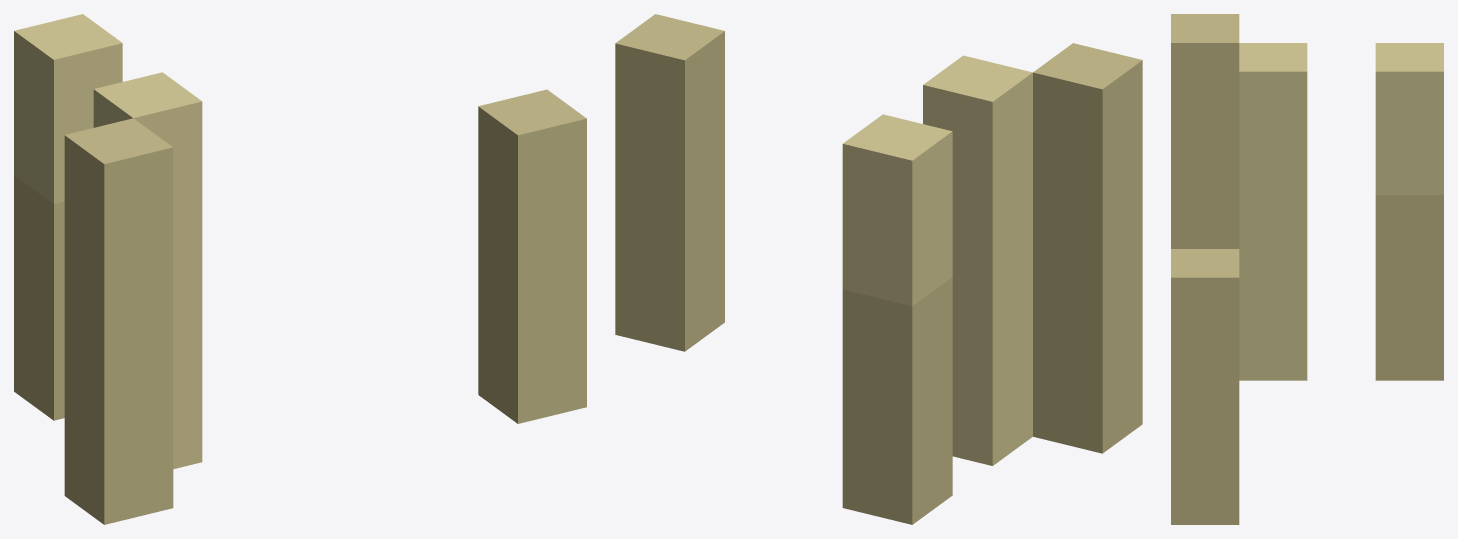
The model's file is trigo_silvestre_03.glb.
The picture shows the model from 3 angles, left to right: view 1: azimuth 30°, elevation 25°; view 2: azimuth 150°, elevation 25°; view 3: azimuth 270°, elevation 25°; orthographic projection. The views are drawn at different scales.
Parts seen in each view (by area): view 1: trigo_silvestre_03; view 2: trigo_silvestre_03; view 3: trigo_silvestre_03.
Boxes of the visible parts, x1,y1,x2,y2 form: trigo_silvestre_03: (14, 14, 586, 524); trigo_silvestre_03: (615, 14, 1142, 524); trigo_silvestre_03: (1171, 14, 1443, 524).
Size of the model in its own units: 0.7 by 0.5 by 0.4.
